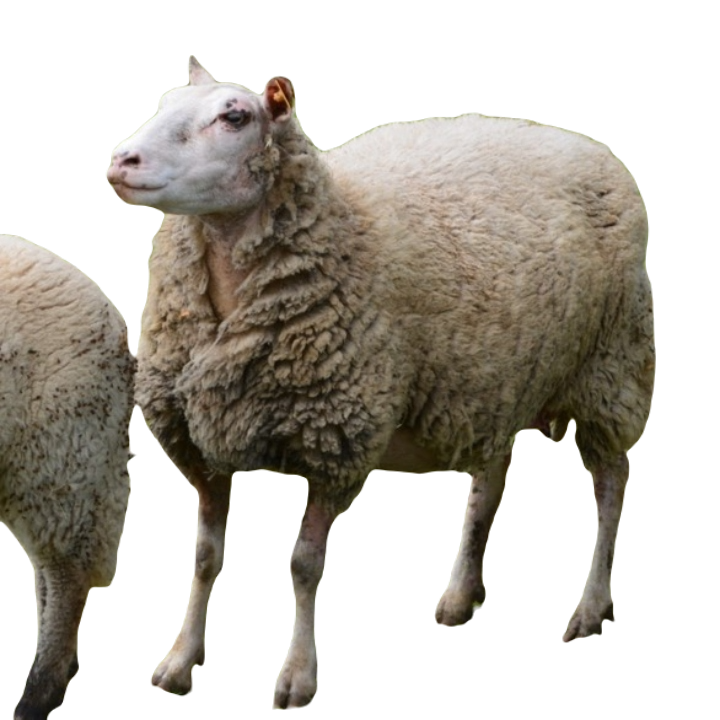Sheep: (105, 50, 659, 715)
